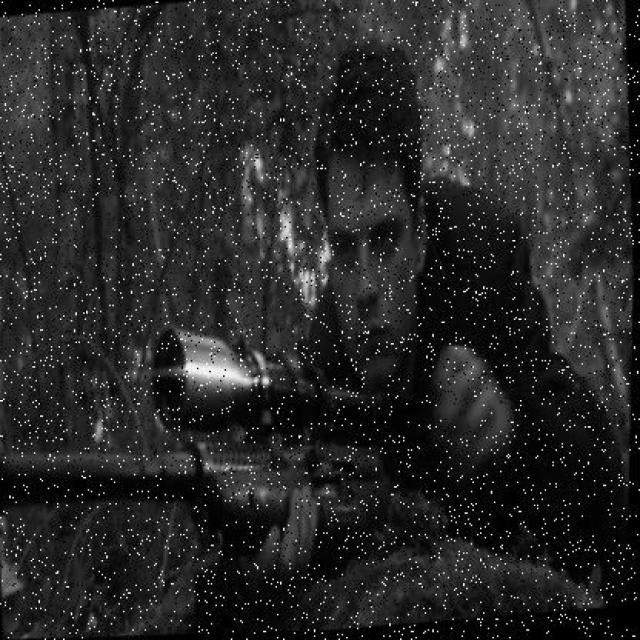weapon: (2, 326, 462, 603)
